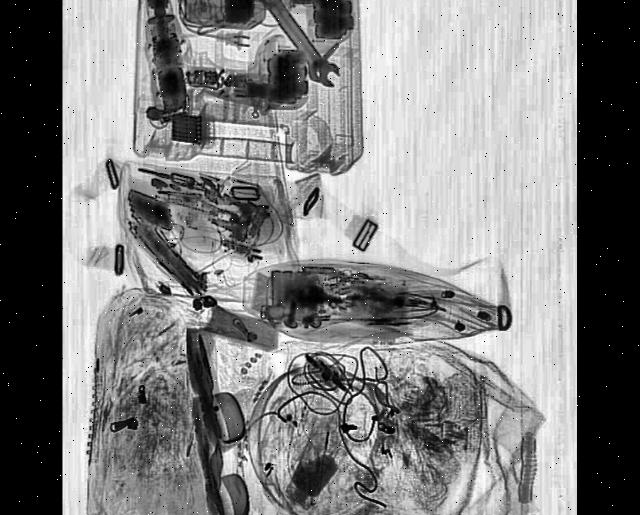Wrench: (258, 0, 345, 95), (245, 0, 332, 85)
